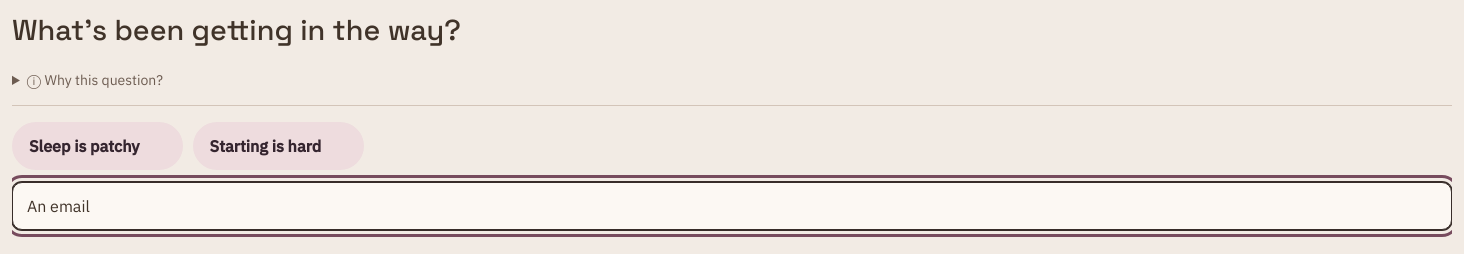
AskCard › enforces a multi limit while allowing deselection and retaining other text
Click the button "Sleep is patchy": (97, 146) [12,122,183,170]
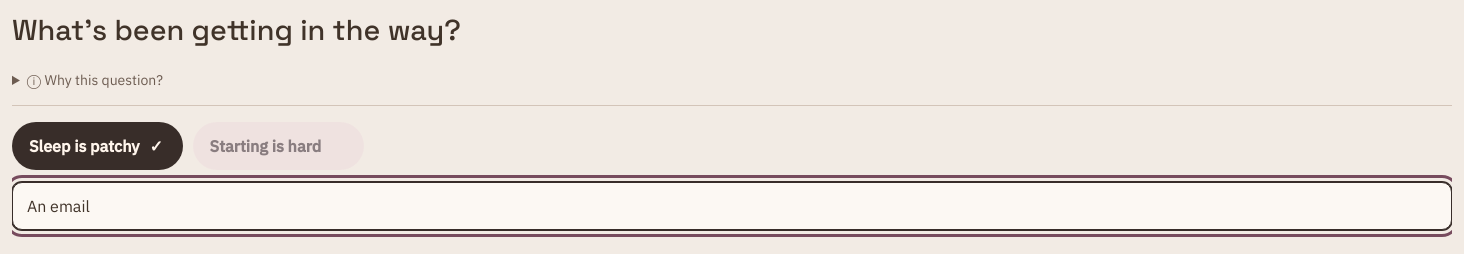
Expected: the button "Starting is hard" is disabled, [193,122,364,170]
Click the button "Sleep is patchy ✓": (97, 146) [12,122,183,170]
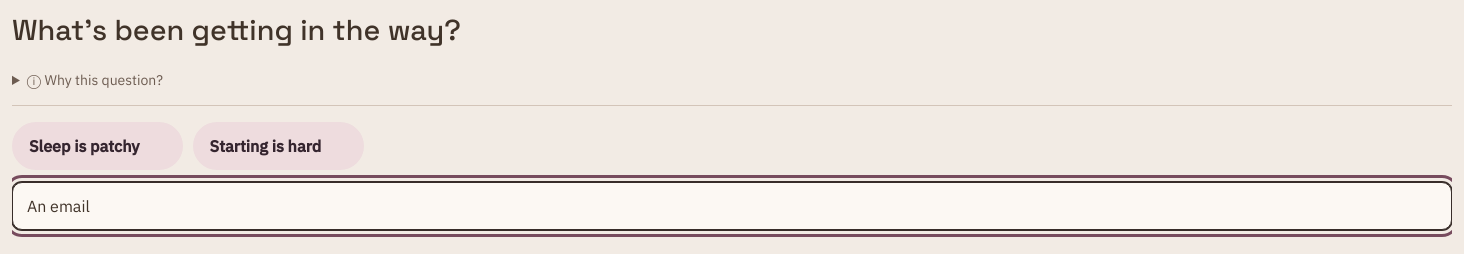
Expected: the field holds "An email", [12,182,1452,230]
Expected: the button "Starting is hard" is enabled, [193,122,364,170]
